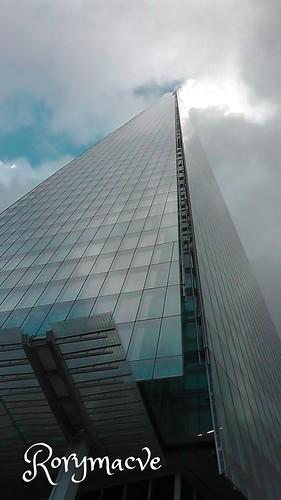building: (5, 84, 281, 498)
